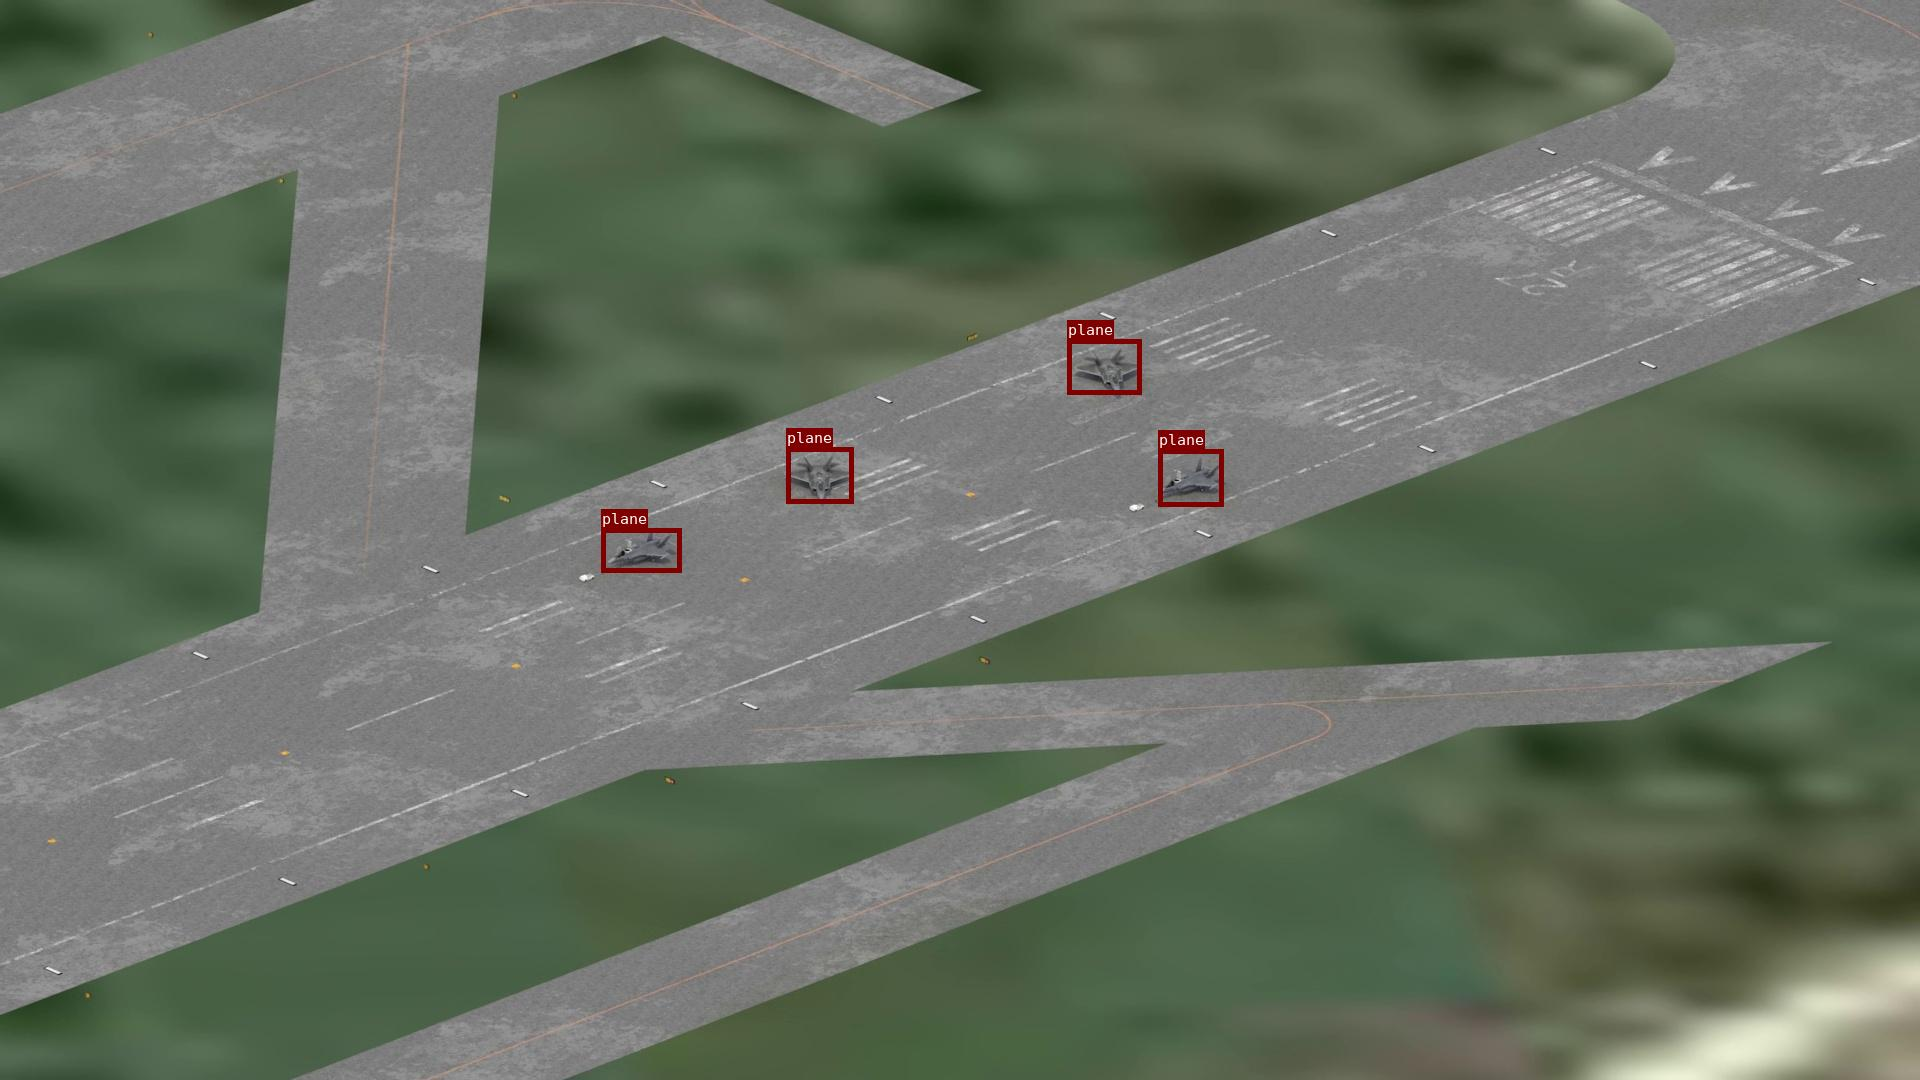plane: (1067, 339, 1141, 394), (1158, 448, 1222, 506), (786, 447, 853, 502), (601, 527, 680, 572)
